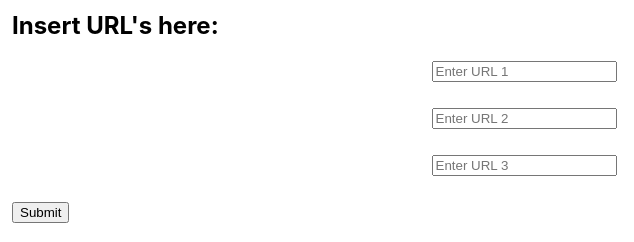
Test: URLForms › validates the URL and displays an error message for an invalid URL
Note: Simulate entering an invalid URL
Step 1. Type "invalid-url" into the field with placeholder "Enter URL 1" → (524, 71), box [432, 61, 616, 82]
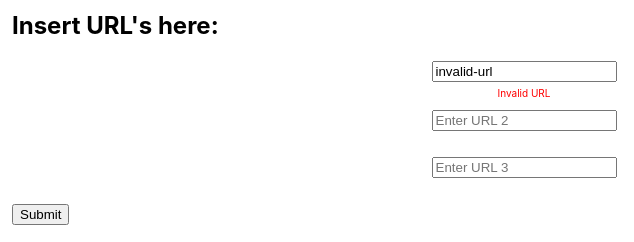
Result: the text "Invalid URL" is shown at [498, 87, 550, 99]
Note: Simulate entering a valid URL
Step 2. Replace the text in the field with placeholder "Enter URL 1" with "https://example.com" → (524, 71), box [432, 61, 616, 82]
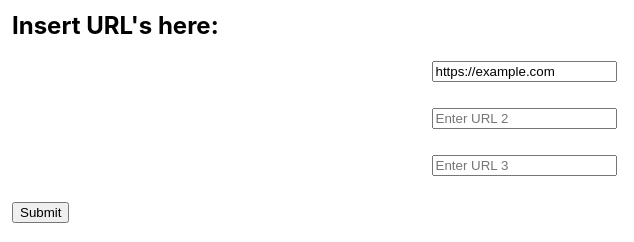
Result: the text "Invalid URL" is gone
